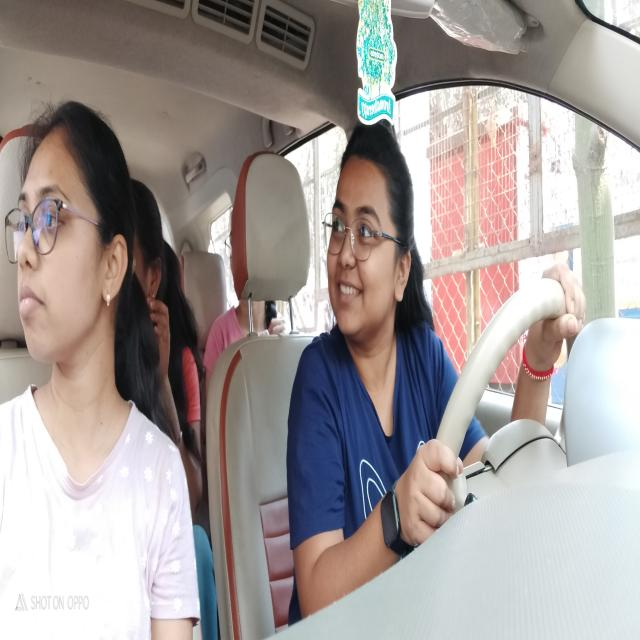LeftRight: (324, 118, 418, 358)
person: (1, 96, 130, 390), (128, 173, 173, 331)
